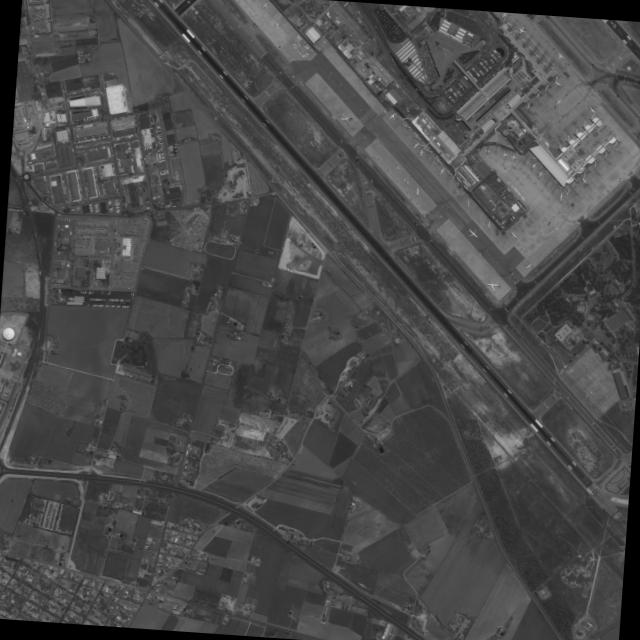plane: (485, 277, 501, 293), (465, 225, 481, 241), (340, 111, 354, 126), (385, 110, 398, 122), (527, 159, 539, 172), (555, 50, 567, 62), (553, 95, 565, 107), (409, 139, 421, 151), (586, 104, 598, 116), (508, 229, 520, 241), (534, 169, 546, 180), (436, 165, 447, 177), (259, 0, 270, 11), (517, 24, 528, 35), (579, 175, 590, 186), (522, 261, 533, 272), (584, 621, 596, 631), (553, 79, 563, 89), (556, 191, 565, 202), (463, 198, 472, 208), (499, 12, 510, 19), (417, 148, 425, 157), (413, 187, 421, 196), (510, 153, 517, 162), (501, 150, 508, 159), (485, 220, 492, 229), (484, 147, 490, 154), (404, 179, 411, 185), (274, 21, 280, 27), (395, 165, 400, 170)
storage-tank: (0, 326, 16, 341), (193, 9, 199, 15), (16, 351, 21, 356), (4, 389, 9, 393), (626, 66, 631, 70), (3, 393, 7, 397)
